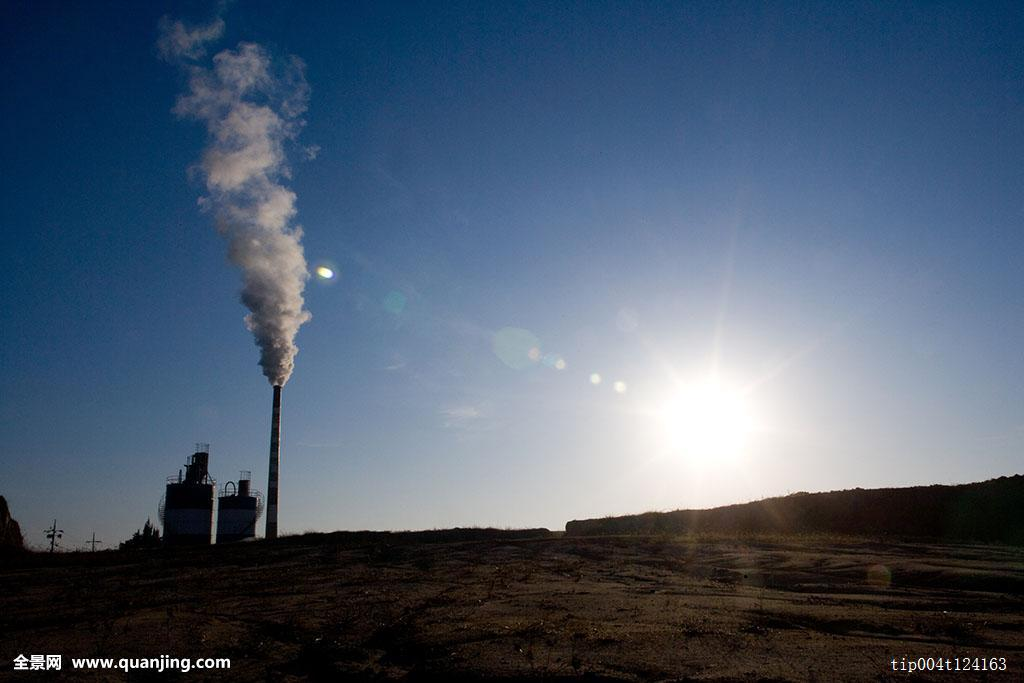dust: (201, 107, 330, 397)
